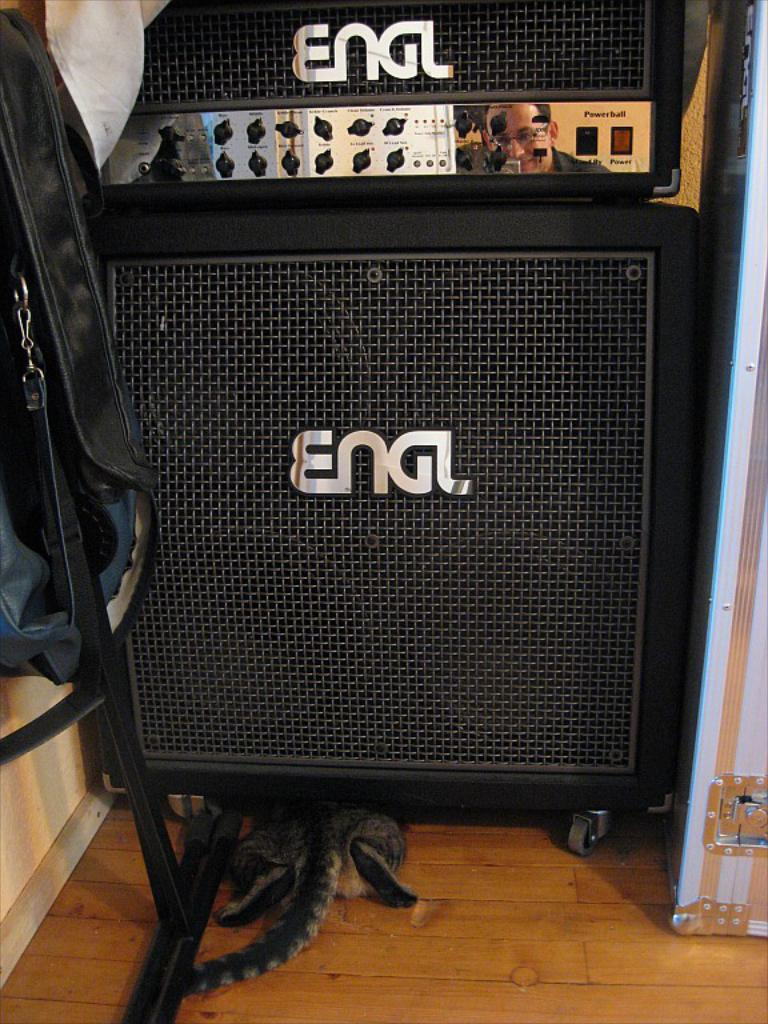person: (468, 99, 615, 175)
